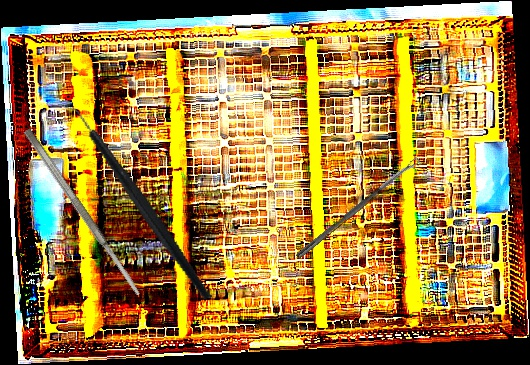Chopper: (56, 81, 213, 324)
Spatula Surgical: (22, 126, 143, 299)
Surgical Spoon: (295, 156, 421, 261)
